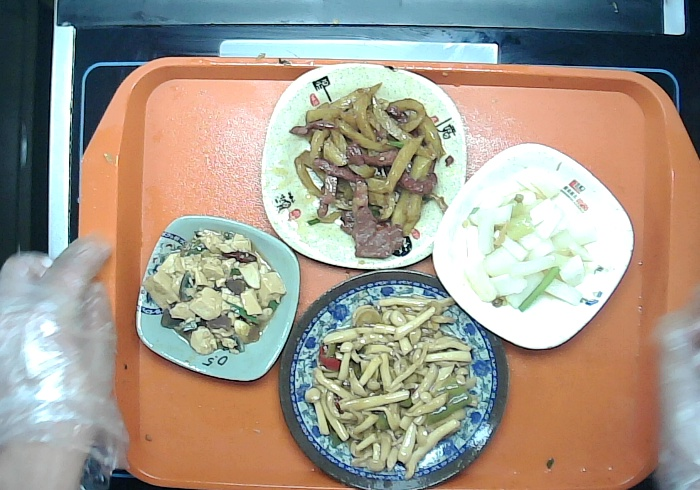NLDX-Bai_Se_Xiao_Fang_Die: (428, 140, 636, 355)
NLDX-Fu_Zi_Fang_Die: (257, 59, 471, 274)
NLDX-Qing_Hua_Xiao_Fang_Die: (132, 211, 303, 385)
NLDX-Qing_Hua_Yuan_Die: (271, 263, 513, 490)
